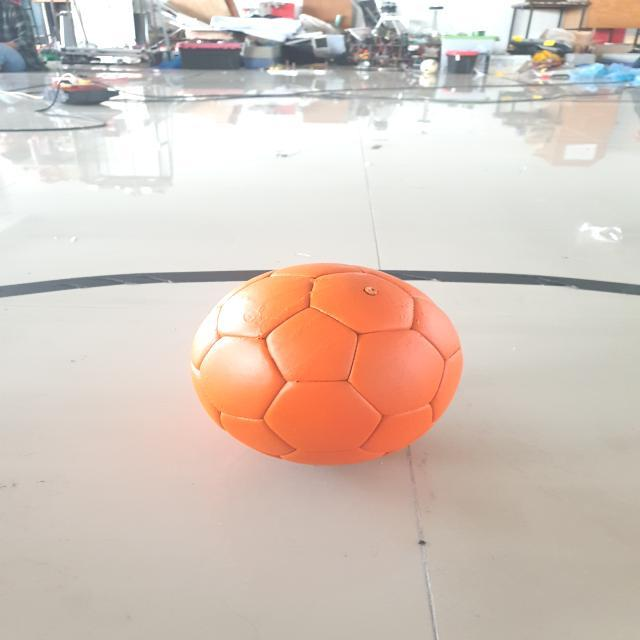bola: (181, 252, 475, 472)
